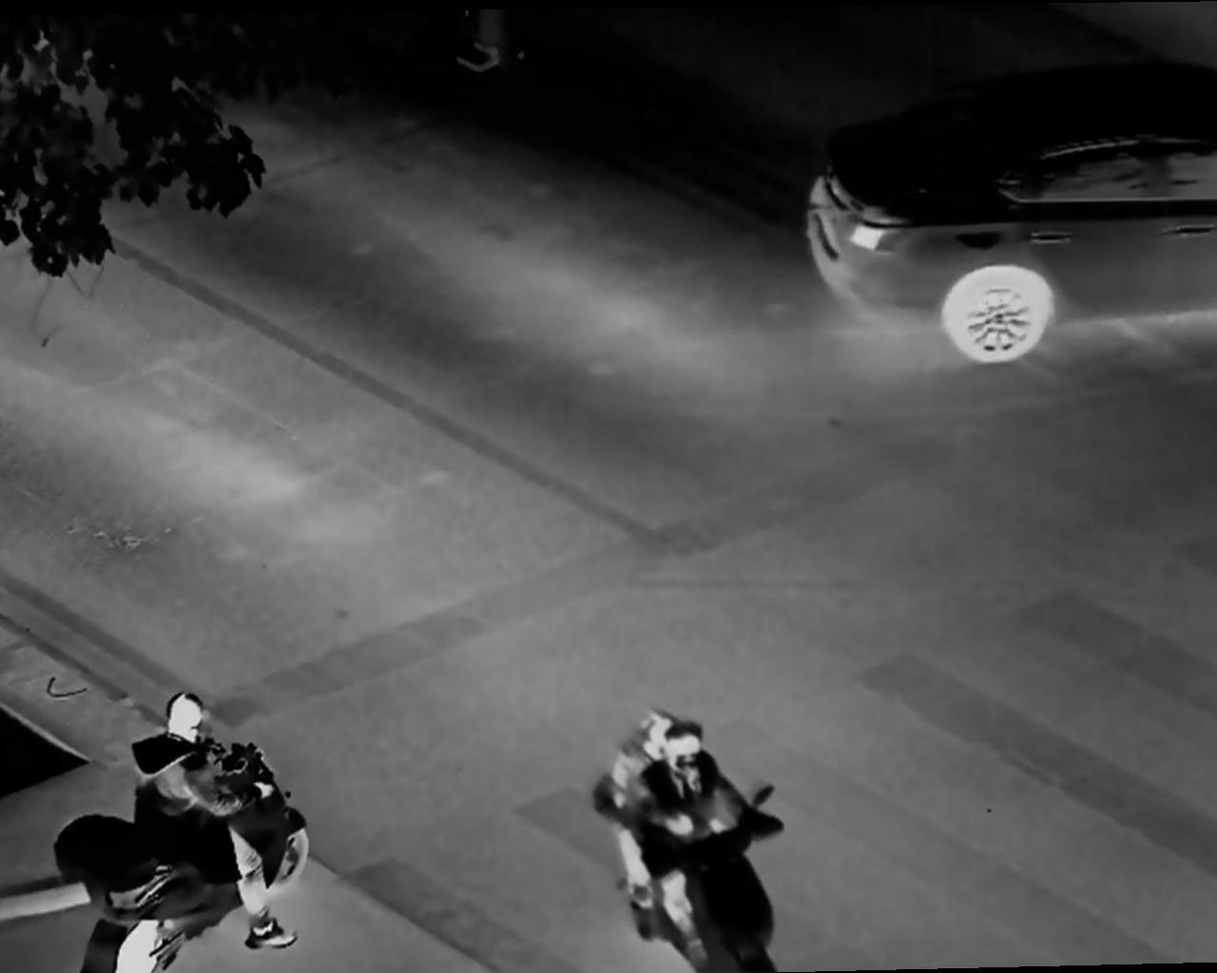person: (123, 692, 310, 949), (636, 725, 734, 948), (611, 709, 692, 917)
